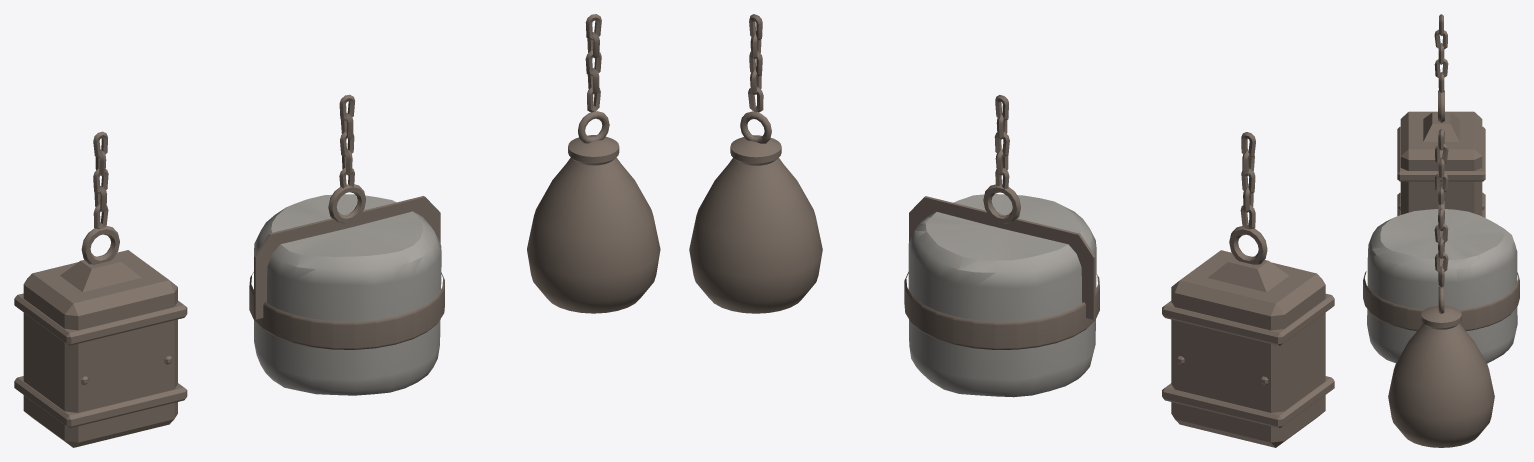
Rendered from counterweight.glb.
3 views of the same model, side by side, from view 1: azimuth 30°, elevation 25°; view 2: azimuth 150°, elevation 25°; view 3: azimuth 270°, elevation 25° (orthographic). The views are drawn at different scales.
Parts seen in each view (by area): view 1: counterweight_b, counterweight_a, counterweight_c; view 2: counterweight_b, counterweight_a, counterweight_c; view 3: counterweight_b, counterweight_c, counterweight_a.
Part boxes in pixels (box(x1,y1,x2,y2)): counterweight_b: box(249, 94, 444, 395); counterweight_a: box(14, 131, 187, 447); counterweight_c: box(527, 14, 660, 313); counterweight_b: box(904, 95, 1099, 397); counterweight_a: box(1162, 132, 1334, 447); counterweight_c: box(689, 14, 822, 313); counterweight_b: box(1363, 129, 1519, 363); counterweight_c: box(1388, 208, 1494, 447); counterweight_a: box(1397, 14, 1485, 217).
Size of the model in its own units: 2.48 by 1.13 by 0.69.
